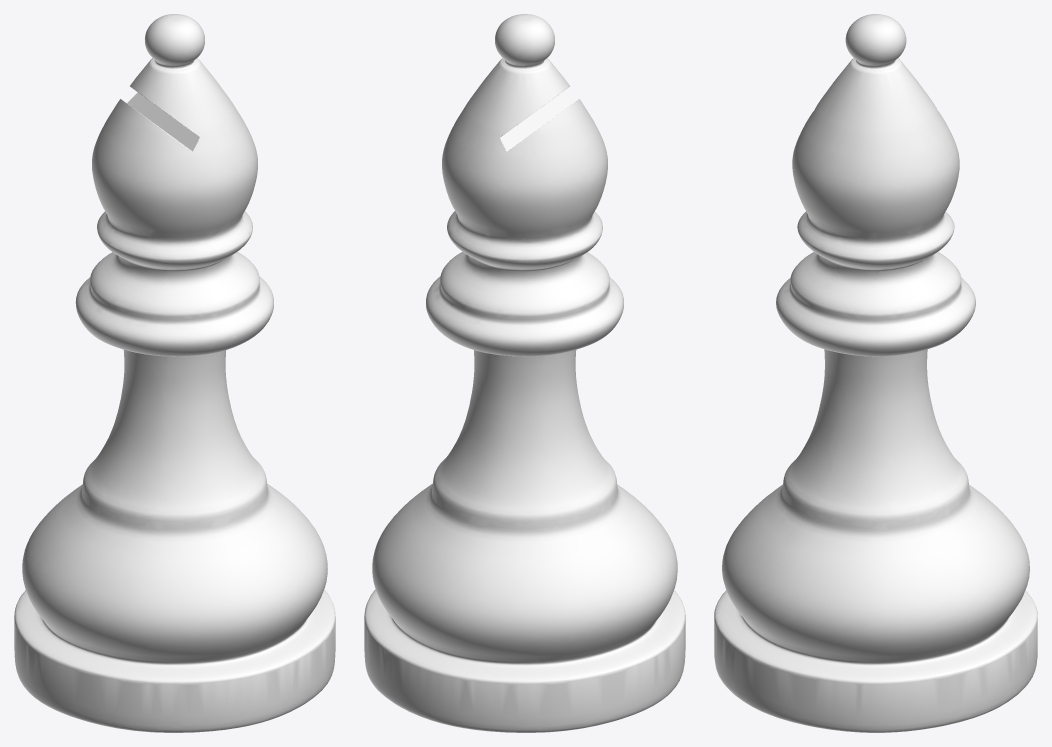
The model's file is Bishop.obj.
3 renders of one model, left to right at view 1: azimuth 30°, elevation 25°; view 2: azimuth 150°, elevation 25°; view 3: azimuth 270°, elevation 25°, orthographic.
Visible parts, largest first — view 1: Bishop; view 2: Bishop; view 3: Bishop.
Boxes of the visible parts, x1,y1,x2,y2 form: Bishop: [14, 14, 335, 732]; Bishop: [364, 14, 685, 732]; Bishop: [714, 14, 1037, 732].
Size of the model in its own units: 0.6067 by 1.34 by 0.6066.
1 material, 1 textured.
